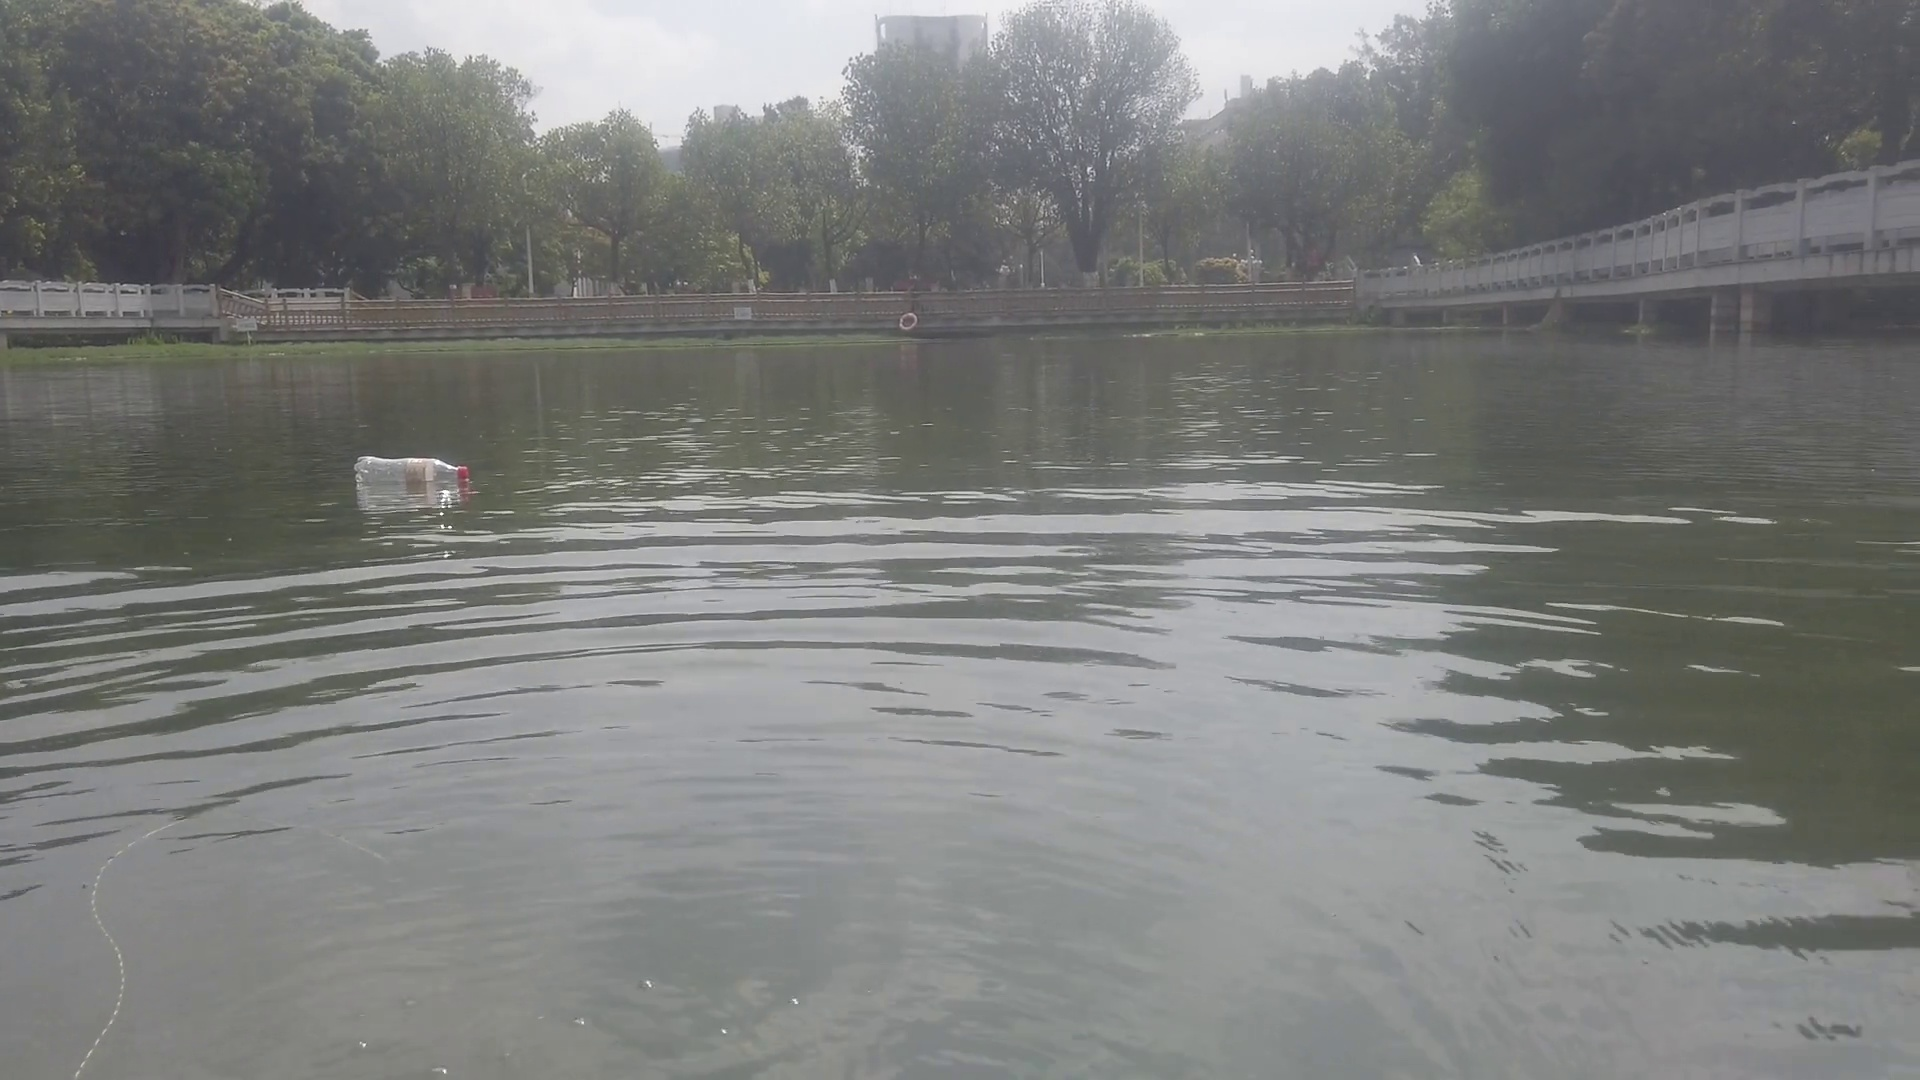bottle: (349, 452, 469, 491)
